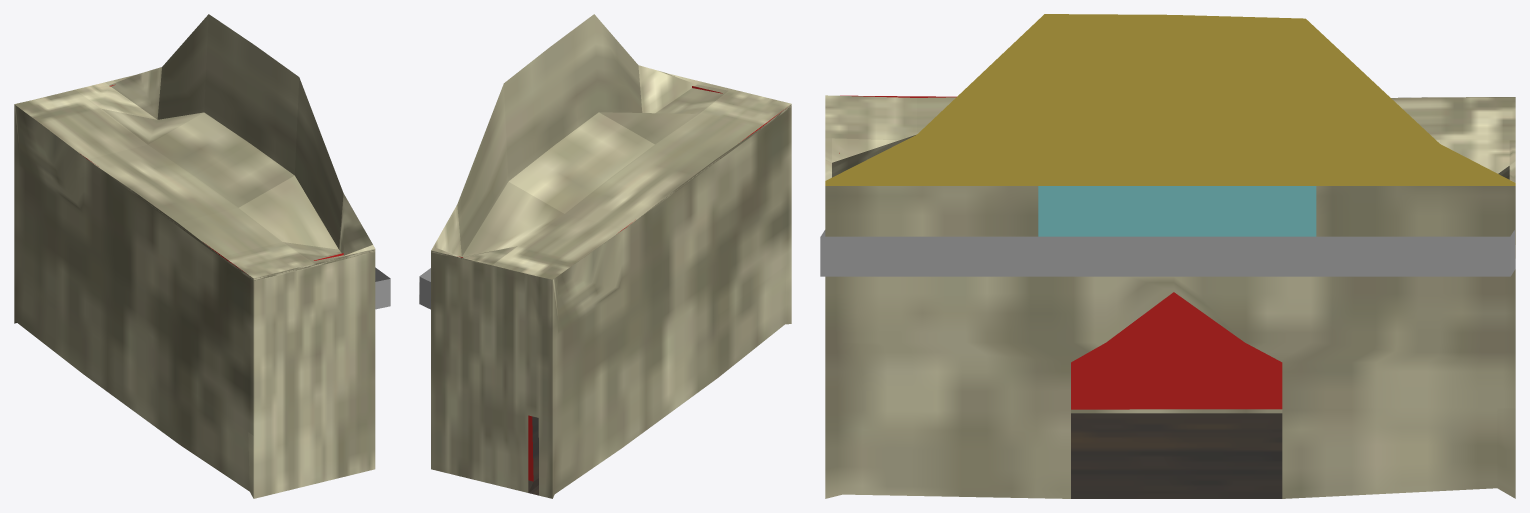
The model's file is BuildingFacade.fbx.
3 renders of one model, left to right at view 1: azimuth 30°, elevation 25°; view 2: azimuth 150°, elevation 25°; view 3: azimuth 270°, elevation 25°, orthographic. The views are drawn at different scales.
Parts seen in each view (by area): view 1: Building; view 2: Building; view 3: Building.
Boxes of the visible parts, <box> form: Building: <box>14,14,390,498</box>; Building: <box>419,14,791,498</box>; Building: <box>820,14,1515,498</box>.
Size of the model in its own units: 65.29 by 155 by 201.
